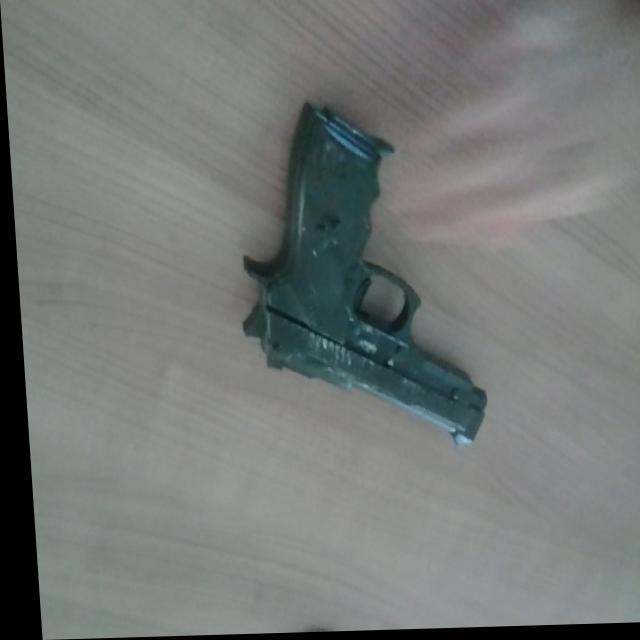handgun: (207, 75, 565, 477)
